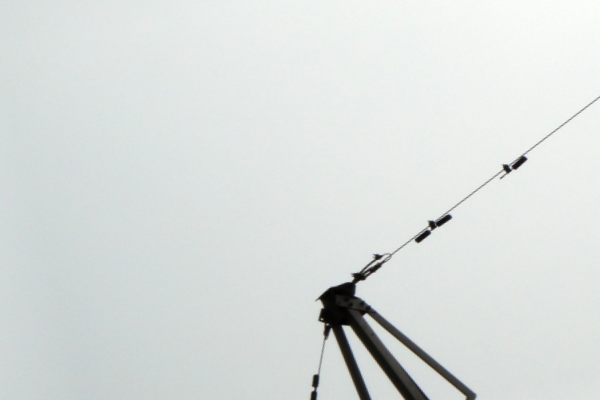damper: (411, 211, 454, 244)
damper_defect: (496, 154, 528, 182)
